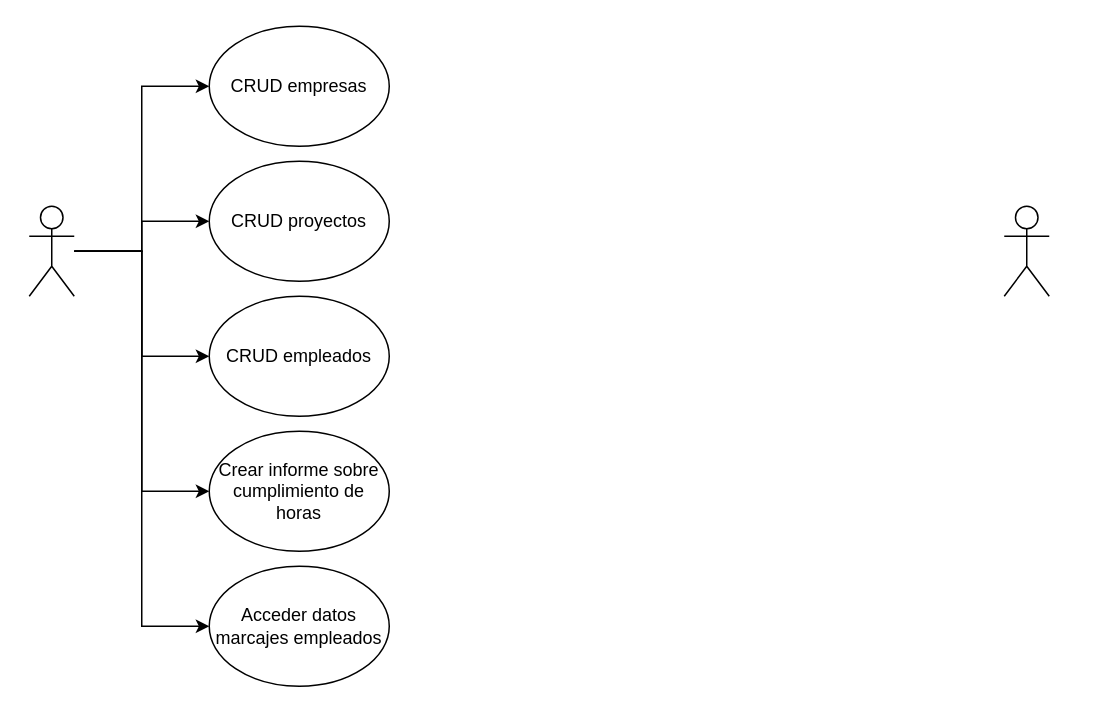
Image size: 1094x713. Some labels were removed from this diagram. Each missing label, with the centre of its shape:
Empleado: the point at 1026,250
RRHH: the point at 51,250
